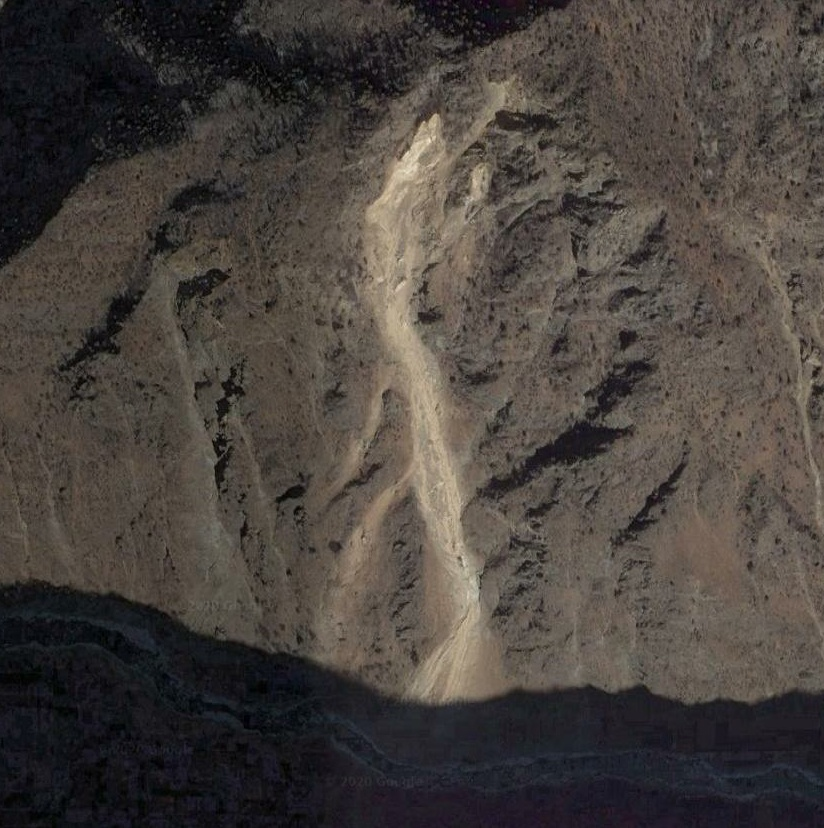slope: (358, 109, 496, 712)
